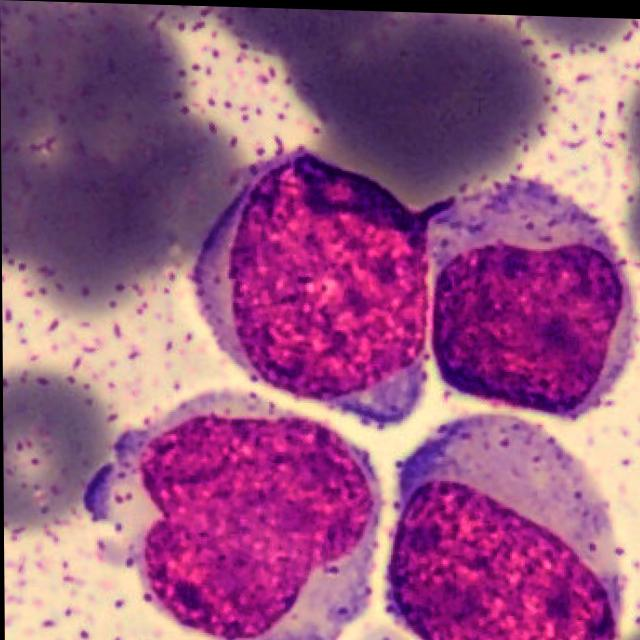Mieloblasto: (189, 148, 449, 423), (133, 390, 384, 640), (385, 413, 628, 640), (426, 181, 632, 415)
